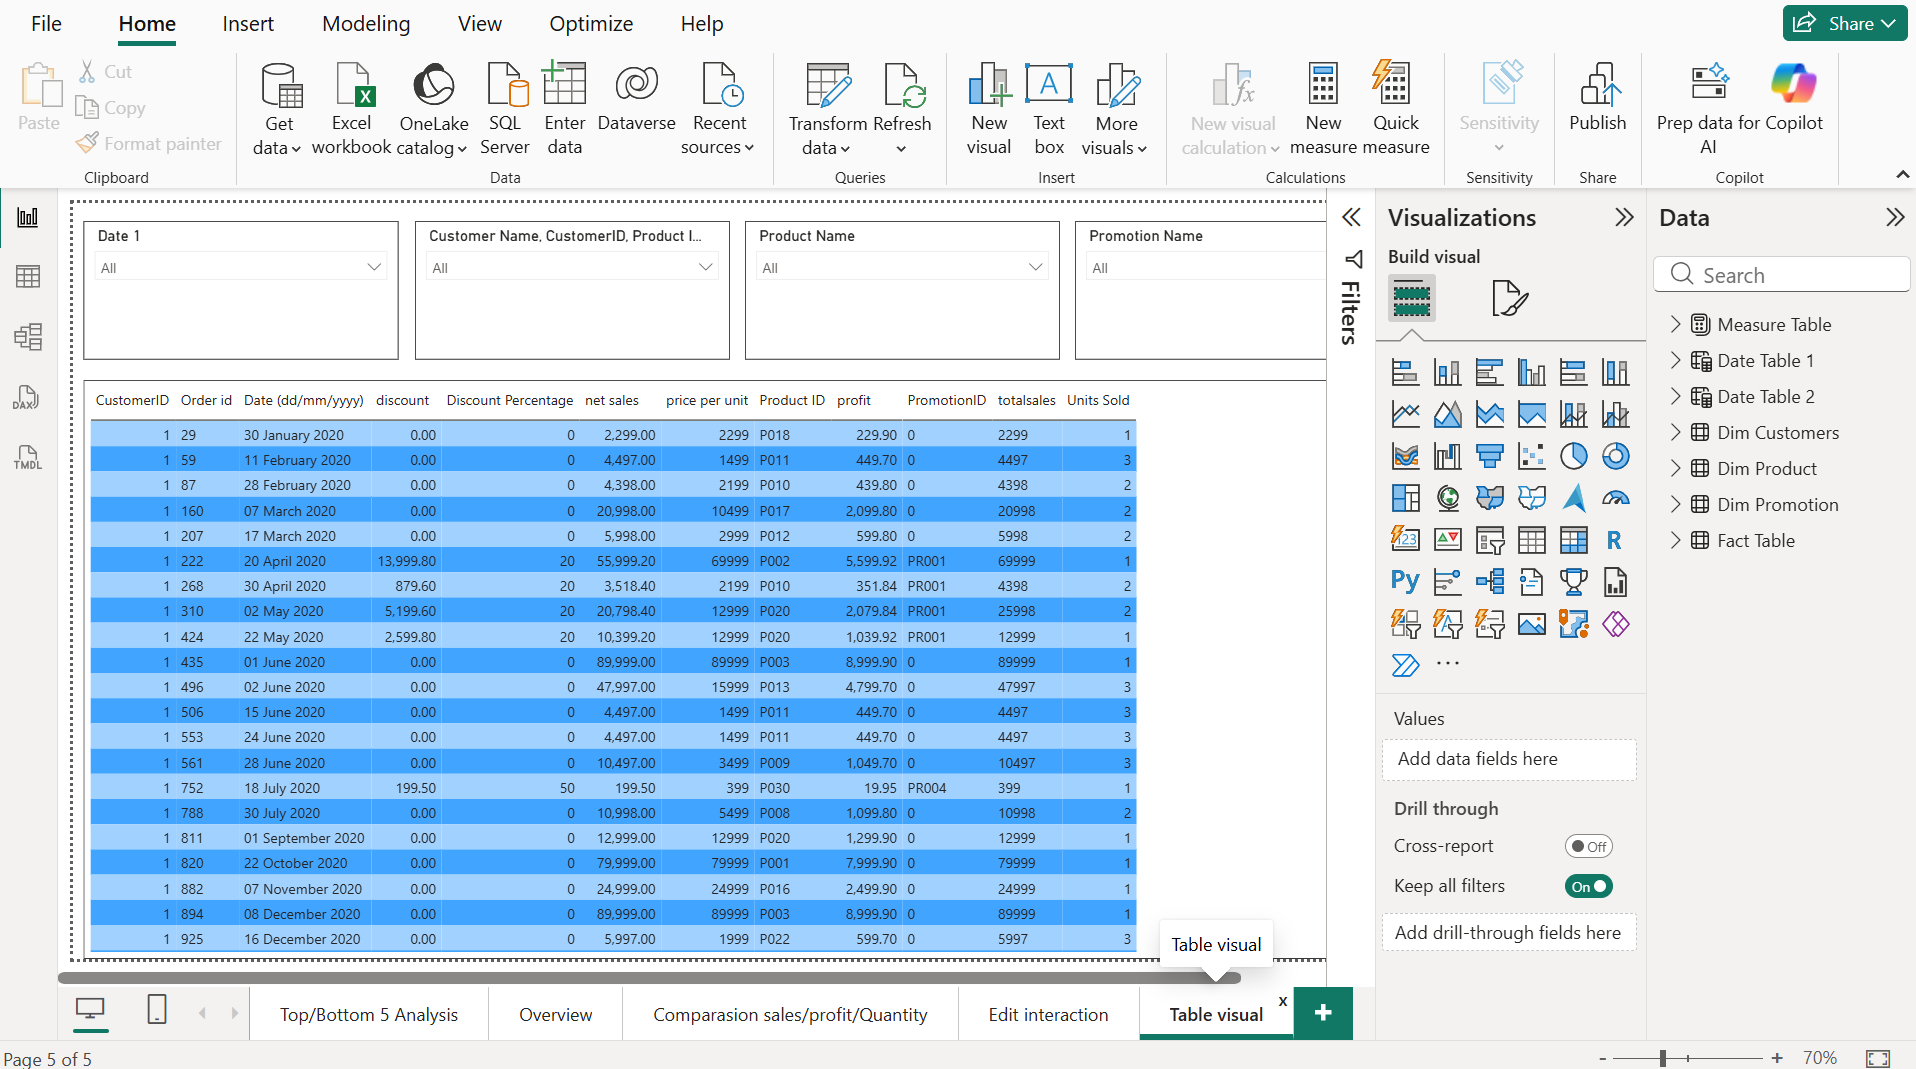

This screenshot's page, from the dashboard's own definition file:
{"tool":"powerbi","page":{"name":"Table visual","canvas":[1280,720],"ordinal":4},"visuals":[{"type":"tableEx","fields":{"Values":["Fact Table.CustomerID","Fact Table.Order id","Fact Table.Date (dd/mm/yyyy)","Fact Table.discount","Fact Table.Discount Percentage","Fact Table.net sales","Fact Table.price per unit","Fact Table.Product ID","Fact Table.profit","Fact Table.PromotionID","Fact Table.totalsales","Fact Table.Units Sold"]},"box":[10.6,168.1,1256.8,551.2],"z":0},{"type":"slicer","fields":{"Values":["Date Table 1.Date"]},"box":[10.6,16.7,299.8,131.7],"z":1000},{"type":"slicer","fields":{"Values":["Dim Customers.Customer Name","Fact Table.CustomerID","Fact Table.Product ID","Fact Table.Order id","Fact Table.Date (dd/mm/yyyy)","Fact Table.discount","Fact Table.Discount Percentage","Fact Table.net sales","Fact Table.price per unit","Fact Table.profit","Fact Table.PromotionID","Fact Table.totalsales"]},"box":[325,16.7,299.8,131.7],"z":2000},{"type":"slicer","fields":{"Values":["Dim Product.Product Name"]},"box":[639.5,16.7,299.8,131.7],"z":3000},{"type":"slicer","fields":{"Values":["Dim Promotion.Promotion Name"]},"box":[953.9,16.7,299.8,131.7],"z":4000}]}

Visuals, with their boxes on the page's 1280x720 design canvas (x1, y1, x2, y2). These are canvas units, not pixel positions in the 1916x1069 screenshot, which may show the page scaled, cropped or inside an application window:
tableEx - Fact Table.CustomerID x Fact Table.Order id: (11,168,1267,719)
slicer - Date Table 1.Date: (11,17,310,148)
slicer - Dim Customers.Customer Name x Fact Table.CustomerID: (325,17,625,148)
slicer - Dim Product.Product Name: (640,17,939,148)
slicer - Dim Promotion.Promotion Name: (954,17,1254,148)
